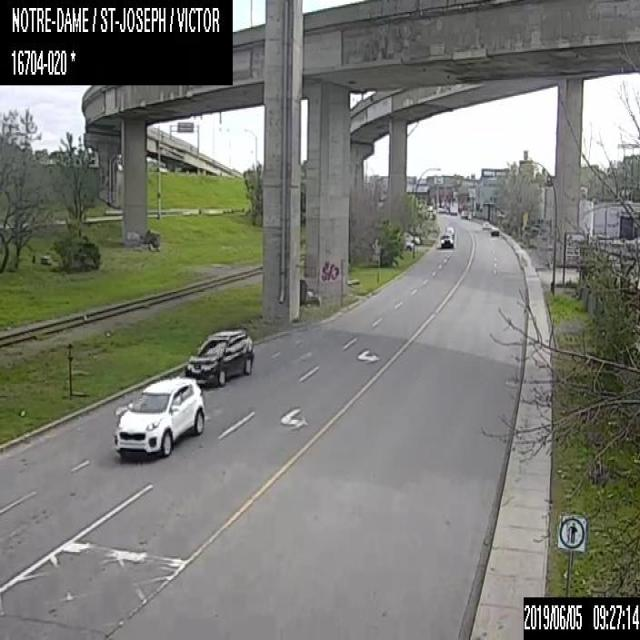vehicle: (114, 376, 204, 461), (184, 329, 254, 386), (440, 233, 452, 247), (445, 225, 454, 237), (491, 227, 498, 236), (482, 222, 489, 230)
